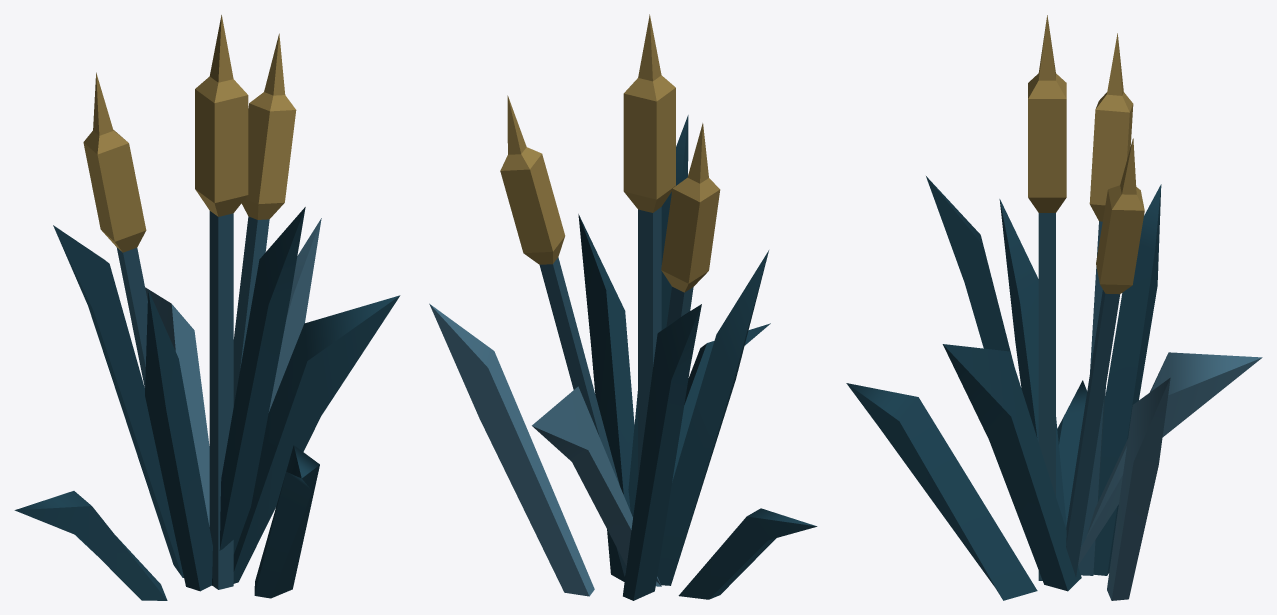
Rendered from SM_Env_Reeds_02.fbx.
3 views of the same model, side by side, from view 1: azimuth 30°, elevation 25°; view 2: azimuth 150°, elevation 25°; view 3: azimuth 270°, elevation 25° (orthographic).
Parts seen in each view (by area): view 1: SM_Env_Reeds_02; view 2: SM_Env_Reeds_02; view 3: SM_Env_Reeds_02.
Part boxes in pixels (box(x1,y1,x2,y2)): SM_Env_Reeds_02: box(14, 15, 400, 600); SM_Env_Reeds_02: box(429, 14, 817, 600); SM_Env_Reeds_02: box(846, 15, 1262, 600).
Size of the model in its own units: 0.00889 by 0.0138 by 0.00924.
Materials: 1 (1 with a texture image).
